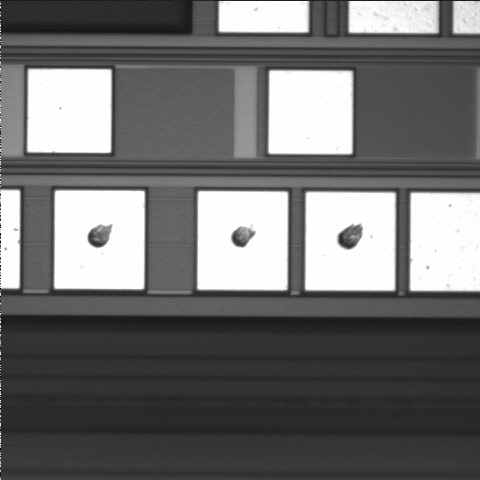pad: (54, 191, 145, 289), (198, 191, 288, 290), (305, 192, 395, 291), (28, 69, 111, 153), (269, 71, 352, 154)
